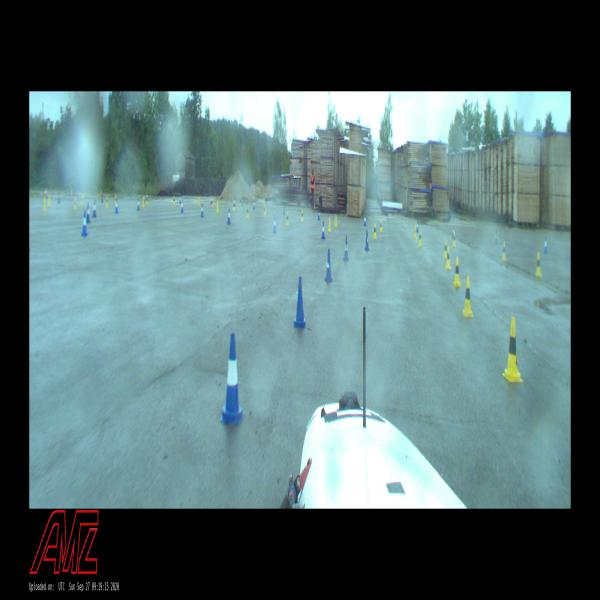blue_cone: (220, 333, 244, 424), (294, 276, 306, 327), (325, 248, 333, 282), (81, 210, 88, 236), (343, 236, 349, 260), (364, 230, 370, 251), (92, 200, 97, 218), (87, 203, 91, 224), (200, 203, 205, 218), (544, 236, 548, 254), (321, 221, 325, 239), (273, 215, 277, 233), (115, 198, 119, 214), (227, 208, 231, 224), (495, 229, 499, 244), (136, 198, 140, 211), (181, 199, 184, 213), (416, 220, 419, 233), (57, 193, 60, 204), (452, 226, 454, 239), (101, 195, 104, 203), (253, 199, 255, 210), (318, 209, 320, 220), (364, 216, 366, 226), (210, 196, 212, 205), (180, 196, 182, 204)
yellow_cone: (502, 317, 523, 383), (462, 275, 474, 317), (453, 256, 462, 287), (535, 252, 542, 276), (445, 245, 451, 270), (502, 241, 507, 261), (418, 230, 423, 247), (443, 239, 447, 258), (373, 223, 377, 239), (42, 196, 46, 212), (413, 224, 417, 239), (286, 211, 290, 226), (328, 217, 332, 232), (334, 213, 338, 227), (74, 197, 78, 210), (379, 220, 383, 232), (453, 231, 456, 246), (216, 200, 219, 213), (301, 209, 304, 221), (106, 196, 109, 208), (48, 194, 51, 206), (142, 197, 145, 208), (81, 195, 84, 206), (173, 195, 176, 205), (114, 194, 117, 204), (264, 205, 266, 216), (247, 206, 249, 217), (233, 200, 235, 211), (146, 194, 148, 204), (212, 198, 214, 206), (199, 195, 200, 206)
